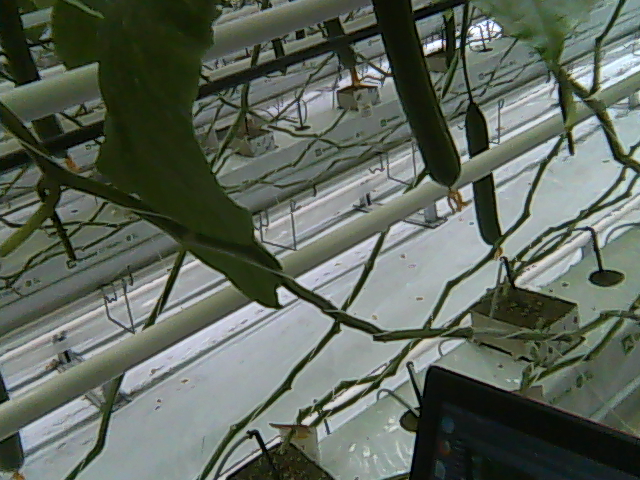concombre: (370, 1, 468, 217)
